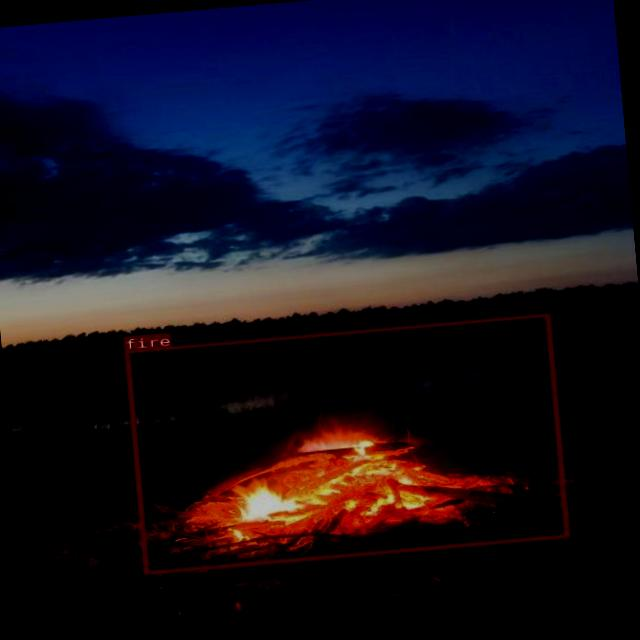fire: (123, 312, 569, 573)
